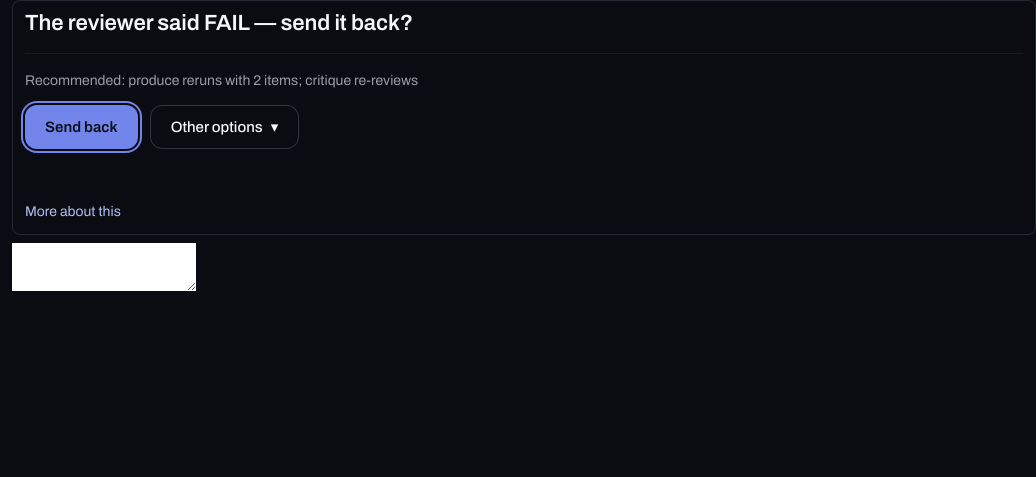
studio#569: typing into the gate note never moves the caret to the composer › Escape leaves the note (cancels it) and the row takes focus back
The width and height of the screenshot is (1036, 477).
Step 1. Click the radio button labelled "Send back" → x=81, y=127, box [25, 105, 138, 149]
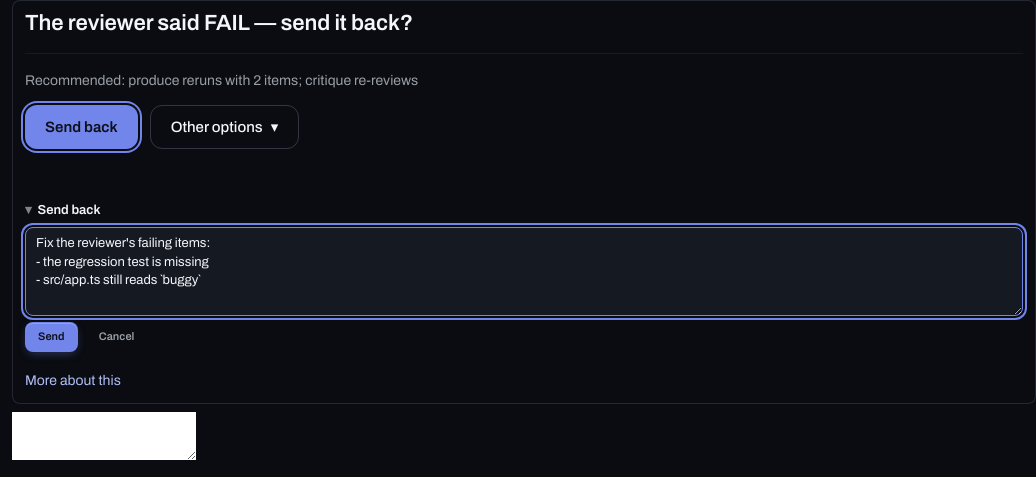
Step 2. Press Escape in the text box with test id "session-gate-note", box [25, 227, 1023, 316]
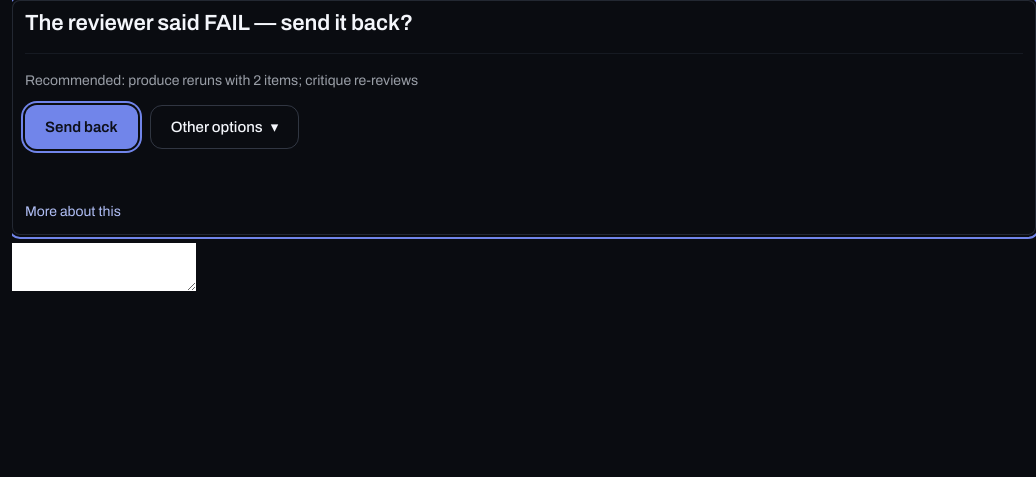
Now the text box with test id "session-gate-note" is gone
